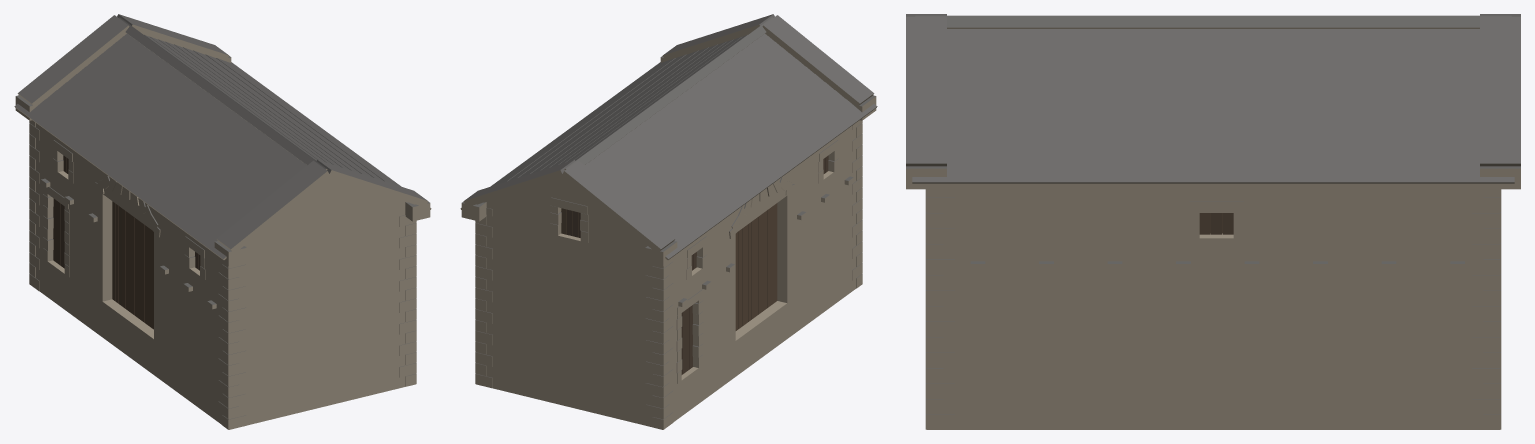
File: context.dales.barn_10.glb
3 views of the same model, side by side, from view 1: azimuth 30°, elevation 25°; view 2: azimuth 150°, elevation 25°; view 3: azimuth 270°, elevation 25° (orthographic). The views are drawn at different scales.
Parts seen in each view (by area): view 1: main__stone_a98, main__slate_666, main__paint_654, main__paint_543, main__paint_554; view 2: main__stone_a98, main__slate_666, main__paint_654, main__paint_543; view 3: main__stone_a98, main__slate_666.
Part boxes in pixels (bbox=[...]): main__stone_a98: bbox=[14, 24, 431, 429]; main__slate_666: bbox=[14, 14, 429, 419]; main__paint_654: bbox=[115, 204, 153, 329]; main__paint_543: bbox=[53, 155, 200, 270]; main__paint_554: bbox=[112, 201, 121, 305]; main__stone_a98: bbox=[460, 24, 877, 429]; main__slate_666: bbox=[462, 14, 877, 419]; main__paint_654: bbox=[735, 203, 777, 330]; main__paint_543: bbox=[566, 155, 828, 374]; main__stone_a98: bbox=[906, 27, 1520, 429]; main__slate_666: bbox=[906, 14, 1520, 414].
Bounding box in the file's own units: 6.07 × 6.74 × 10.77.
